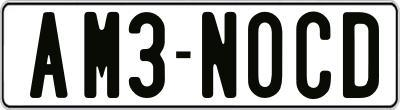0: (245, 11, 279, 100)
3: (128, 11, 170, 103)
A: (28, 9, 69, 95)
C: (295, 10, 331, 100)
D: (342, 9, 381, 98)
M: (84, 11, 121, 103)
N: (200, 12, 238, 101)
